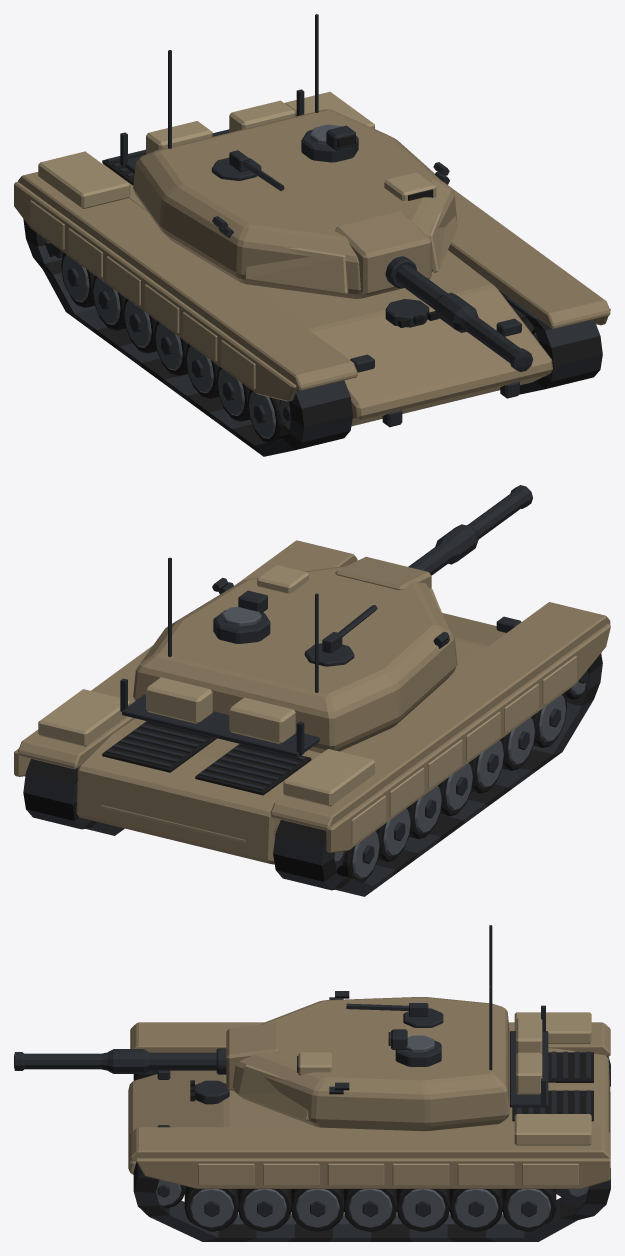
The model's file is tank-heavy.glb.
3 renders of one model, top to bottom at view 1: azimuth 30°, elevation 25°; view 2: azimuth 150°, elevation 25°; view 3: azimuth 270°, elevation 25°, orthographic. The views are drawn at different scales.
Visible parts, largest first — view 1: casco, turret_yaw, gun_pitch, barrel, wheel_L1, wheel_L6, wheel_L3, wheel_L2, wheel_L4, wheel_L5, wheel_L7; view 2: casco, turret_yaw, barrel, gun_pitch, wheel_L7, wheel_L3, wheel_L5, wheel_L4, wheel_L6, wheel_L2, wheel_L1; view 3: casco, turret_yaw, barrel, gun_pitch, wheel_R1, wheel_R6, wheel_R2, wheel_R7, wheel_R4, wheel_R5, wheel_R3, wheel_RT1 (+1 smaller).
Part boxes in pixels (x1,y1,x2,y2): casco: (14,91,610,456); turret_yaw: (120,14,457,298); gun_pitch: (335,211,431,295); barrel: (395,265,533,371); wheel_L1: (248,389,288,442); wheel_L6: (92,275,125,330); wheel_L3: (185,343,219,398); wheel_L2: (216,366,250,421); wheel_L4: (154,321,187,376); wheel_L5: (123,298,156,353); wheel_L7: (61,252,94,307); casco: (14,540,610,896); turret_yaw: (120,557,457,757); barrel: (408,485,532,575); gun_pitch: (335,556,431,590); wheel_L7: (336,829,380,882); wheel_L3: (471,738,504,793); wheel_L5: (409,784,442,838); wheel_L4: (440,761,473,816); wheel_L6: (378,806,411,861); wheel_L2: (502,715,535,770); wheel_L1: (533,693,566,747); casco: (128,1012,610,1241); turret_yaw: (233,925,548,1131); barrel: (14,1049,216,1073); gun_pitch: (216,1023,279,1090); wheel_R1: (184,1186,238,1231); wheel_R6: (449,1189,502,1231); wheel_R2: (238,1189,291,1231); wheel_R7: (502,1189,556,1231); wheel_R4: (344,1189,396,1231); wheel_R5: (397,1189,449,1231); wheel_R3: (291,1189,343,1231); wheel_RT1: (156,1179,185,1208).
Bounding box in the file's own units: 0.66 × 0.514 × 1.24.
